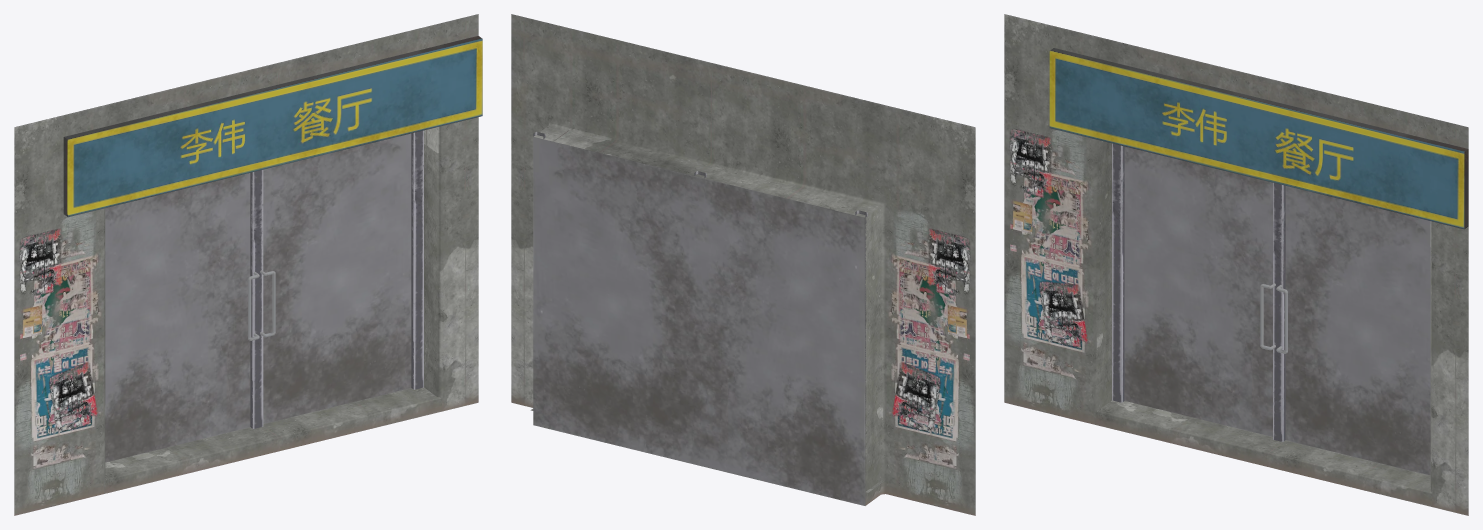
Rendered from sm_groundfloor_door.glb.
3 renders of one model, left to right at view 1: azimuth 30°, elevation 25°; view 2: azimuth 150°, elevation 25°; view 3: azimuth 330°, elevation 25°, orthographic.
Visible parts, largest first — view 1: sm_groundfloor_door; view 2: sm_groundfloor_door; view 3: sm_groundfloor_door.
Part boxes in pixels (box(x1,y1,x2,y2)): sm_groundfloor_door: box(14, 14, 482, 515); sm_groundfloor_door: box(511, 14, 975, 515); sm_groundfloor_door: box(1004, 14, 1468, 515).
Bounding box in the file's own units: 5 × 4 × 0.4059.
1 material, 1 textured.
